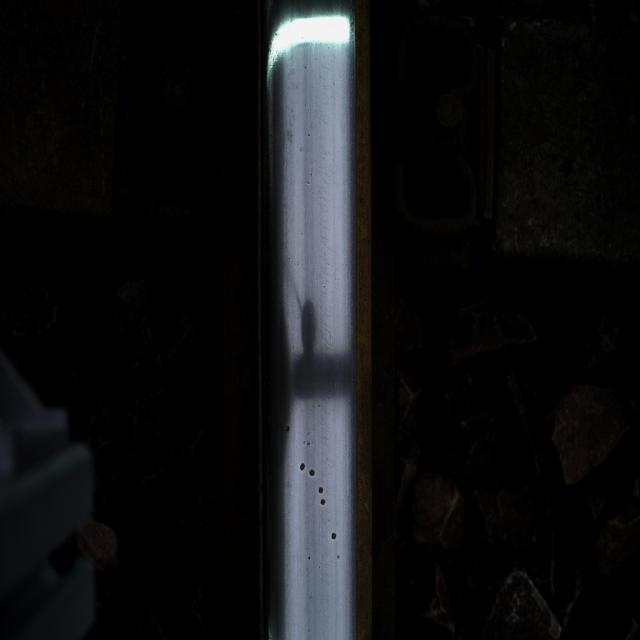crack: (296, 282, 349, 588)
